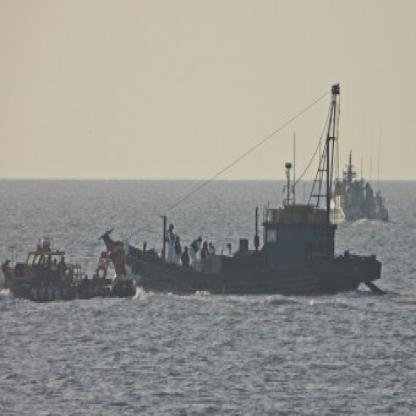fish-b: (89, 79, 393, 313)
